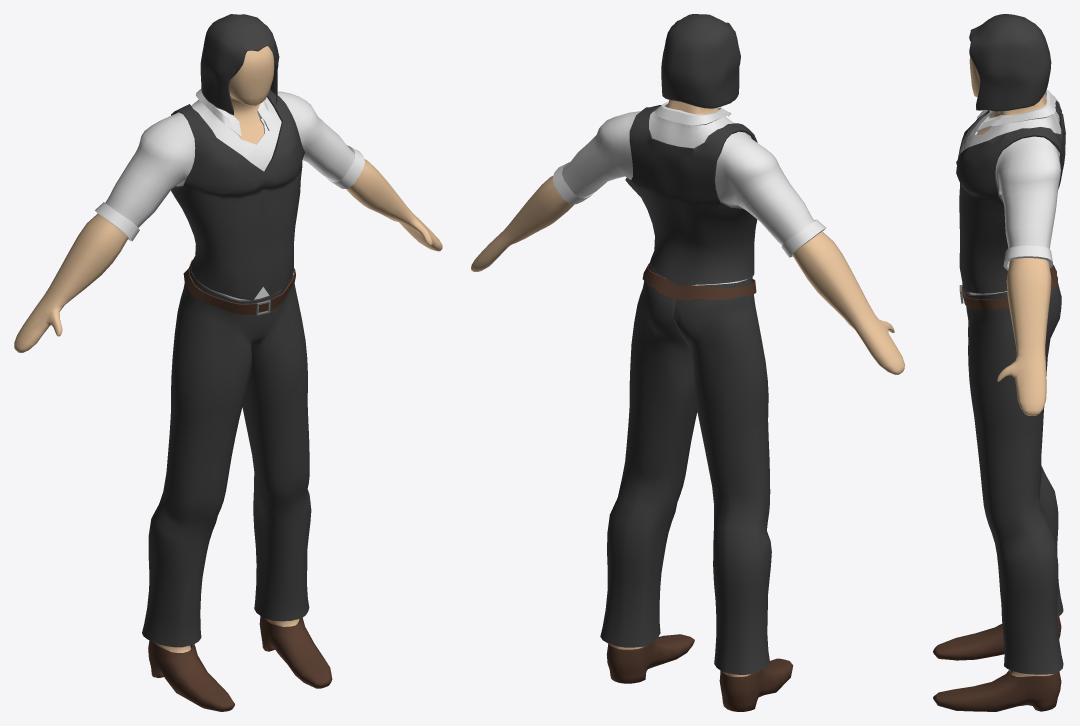
Rendered from PääpahisNoRigAPose.fbx.
The picture shows the model from 3 angles, left to right: view 1: azimuth 30°, elevation 25°; view 2: azimuth 150°, elevation 25°; view 3: azimuth 270°, elevation 25°; orthographic projection.
Parts seen in each view (by area): view 1: Pants, vest, shirt, body, Shoes, hair, belt; view 2: Pants, vest, shirt, body, hair, Shoes, belt; view 3: Pants, shirt, vest, hair, body, Shoes, belt.
Part boxes in pixels (x1=…): Pants: x1=142, y1=265, x2=311, y2=647; vest: x1=171, y1=90, x2=304, y2=300; shirt: x1=95, y1=89, x2=364, y2=300; body: x1=14, y1=46, x2=442, y2=652; Shoes: x1=148, y1=616, x2=332, y2=711; hair: x1=200, y1=14, x2=279, y2=115; belt: x1=183, y1=260, x2=295, y2=315; Pants: x1=600, y1=262, x2=771, y2=674; vest: x1=625, y1=105, x2=757, y2=285; shirt: x1=552, y1=101, x2=825, y2=285; body: x1=471, y1=100, x2=904, y2=676; hair: x1=661, y1=14, x2=740, y2=108; Shoes: x1=606, y1=634, x2=793, y2=711; belt: x1=642, y1=263, x2=756, y2=300; Pants: x1=965, y1=283, x2=1063, y2=674; shirt: x1=961, y1=90, x2=1061, y2=295; vest: x1=956, y1=100, x2=1065, y2=293; hair: x1=969, y1=14, x2=1051, y2=111; body: x1=969, y1=56, x2=1053, y2=676; Shoes: x1=933, y1=616, x2=1061, y2=711; belt: x1=959, y1=264, x2=1057, y2=309.
Size of the model in its own units: 112 by 166 by 30.14.
